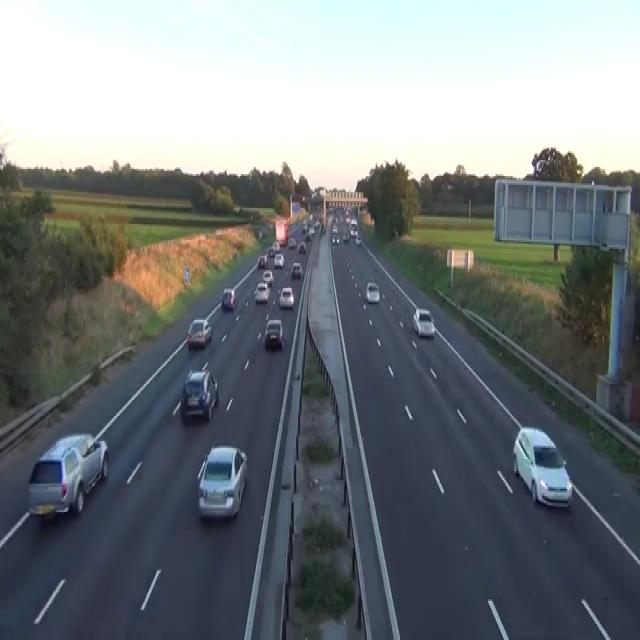Car: (27, 432, 108, 521), (512, 426, 572, 508), (196, 445, 247, 519), (180, 368, 218, 423), (331, 204, 361, 246), (187, 318, 211, 348), (412, 308, 435, 338), (264, 318, 284, 350), (278, 286, 294, 308), (221, 288, 236, 309), (254, 281, 269, 302), (365, 281, 379, 302), (262, 268, 273, 286), (268, 242, 280, 258), (291, 262, 302, 278), (273, 252, 284, 268), (257, 254, 268, 268), (288, 236, 296, 249), (297, 240, 305, 252), (350, 224, 358, 236), (301, 220, 308, 233), (272, 240, 280, 251), (342, 231, 349, 242), (331, 222, 338, 233), (331, 234, 339, 243), (267, 247, 273, 258), (350, 217, 357, 226), (355, 233, 361, 243), (308, 226, 315, 234), (305, 231, 311, 240), (313, 220, 319, 228)
Truck: (275, 219, 288, 245)
